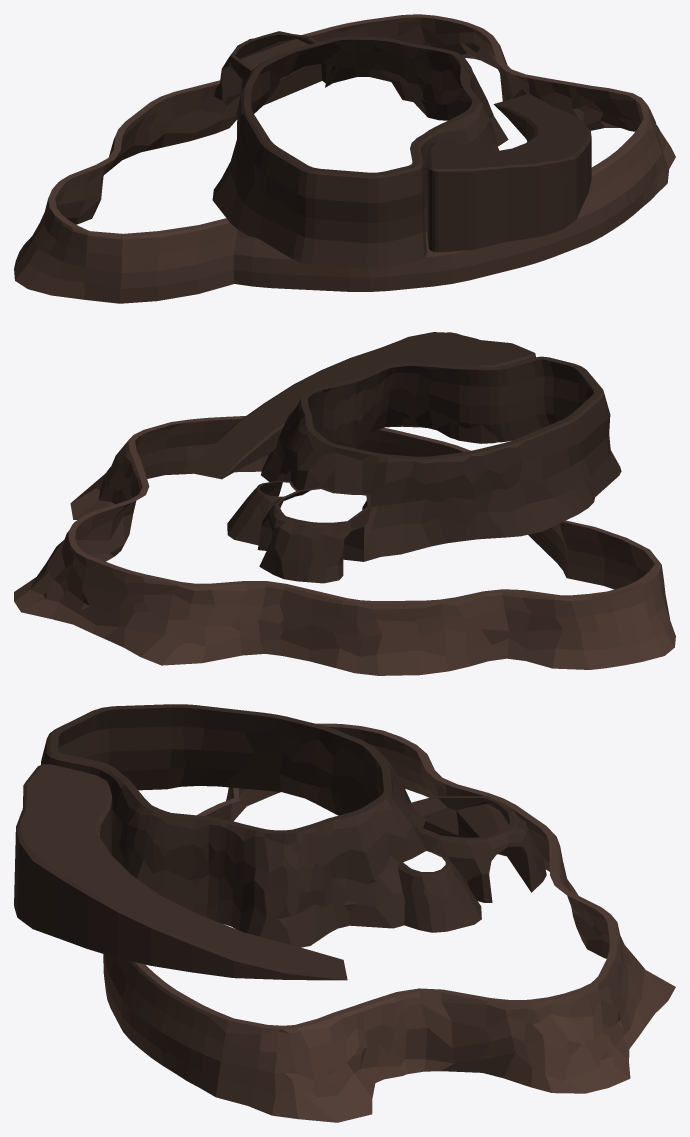
The model's file is Mountains.glb.
The picture shows the model from 3 angles, top to bottom: view 1: azimuth 30°, elevation 25°; view 2: azimuth 150°, elevation 25°; view 3: azimuth 270°, elevation 25°; orthographic projection. The views are drawn at different scales.
Parts seen in each view (by area): view 1: Mprop.001, Mprop.002, Mprop; view 2: Mprop.001, Mprop.002, Mprop; view 3: Mprop.002, Mprop.001, Mprop.
Part boxes in pixels (bbox=[...]): Mprop.001: bbox=[14, 14, 675, 303]; Mprop.002: bbox=[212, 31, 508, 268]; Mprop: bbox=[427, 93, 591, 252]; Mprop.001: bbox=[14, 416, 675, 675]; Mprop.002: bbox=[227, 356, 621, 583]; Mprop: bbox=[184, 332, 535, 479]; Mprop.002: bbox=[41, 704, 546, 947]; Mprop.001: bbox=[103, 723, 675, 1122]; Mprop: bbox=[14, 764, 347, 980].
Bounding box in the file's own units: 19.77 × 4.53 × 16.01.
